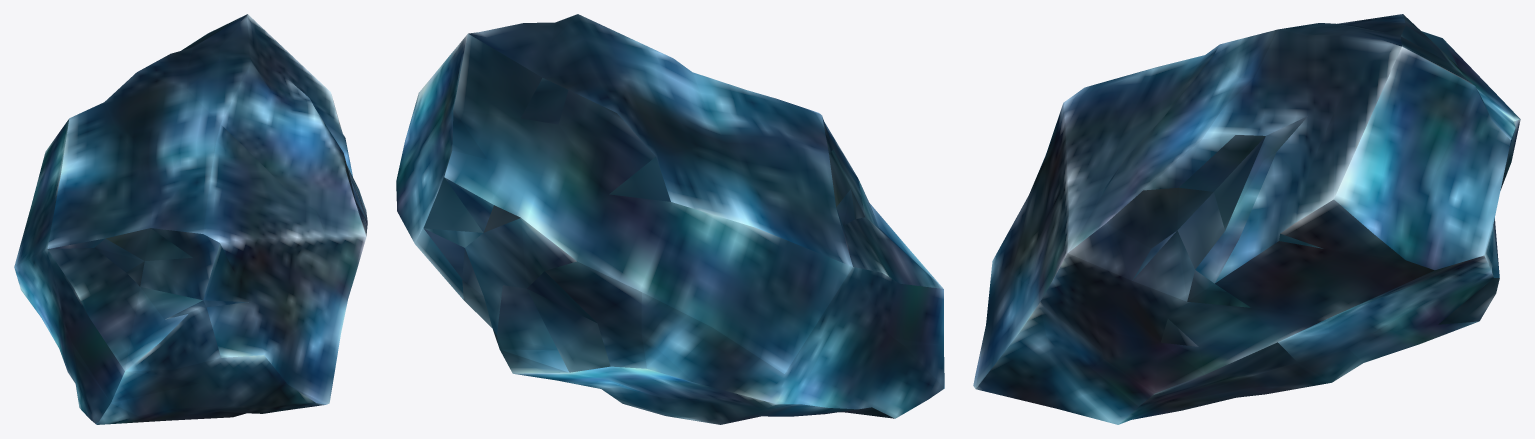
File: meteor_blue_special_01.glb
The picture shows the model from 3 angles, left to right: view 1: azimuth 30°, elevation 25°; view 2: azimuth 150°, elevation 25°; view 3: azimuth 270°, elevation 25°; orthographic projection. The views are drawn at different scales.
Visible parts, largest first — view 1: Mesh_0; view 2: Mesh_0; view 3: Mesh_0.
Part boxes in pixels (x1,y1,x2,y2): Mesh_0: (14, 14, 367, 424); Mesh_0: (396, 14, 944, 424); Mesh_0: (973, 14, 1520, 424).
Size of the model in its own units: 1.82 by 1.65 by 1.9.
Materials: 1 (1 with a texture image).
